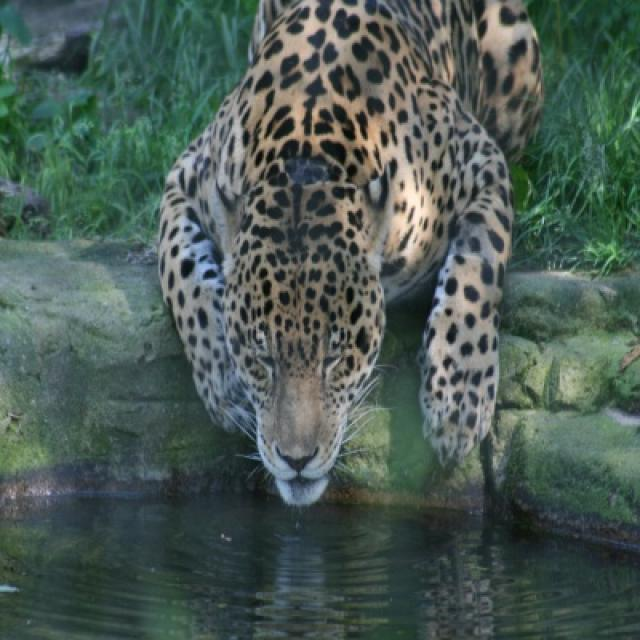Jaguar: (157, 0, 546, 509)
